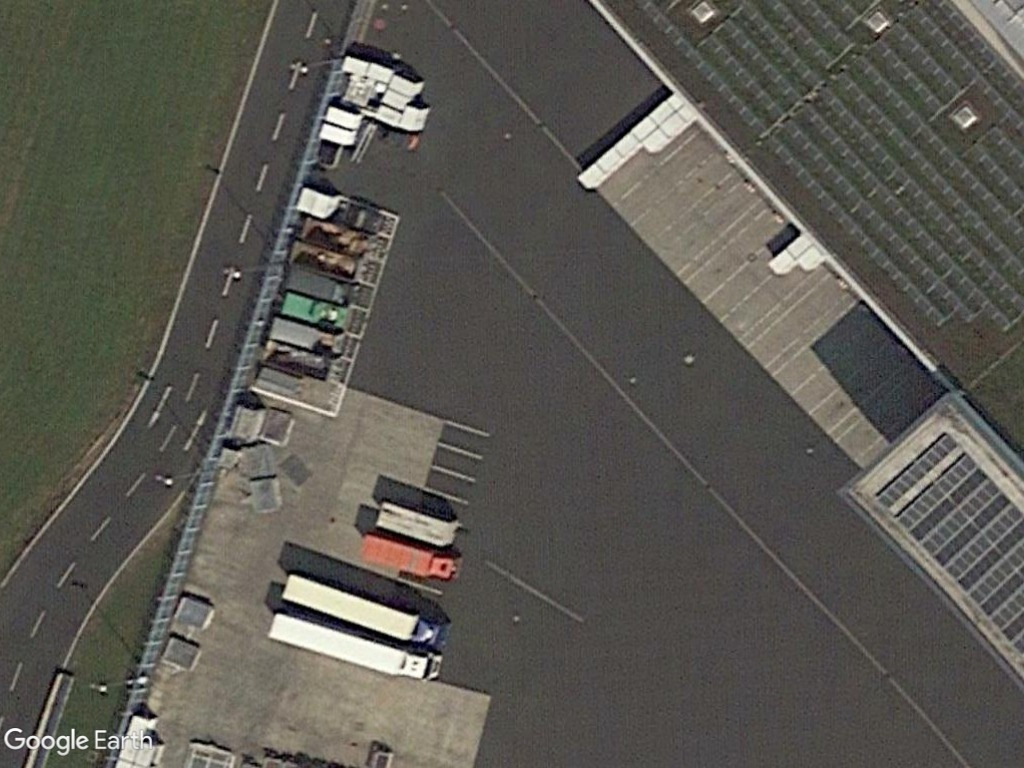longvehicle: (268, 567, 454, 655), (266, 605, 445, 685)
truck: (357, 531, 465, 587)
